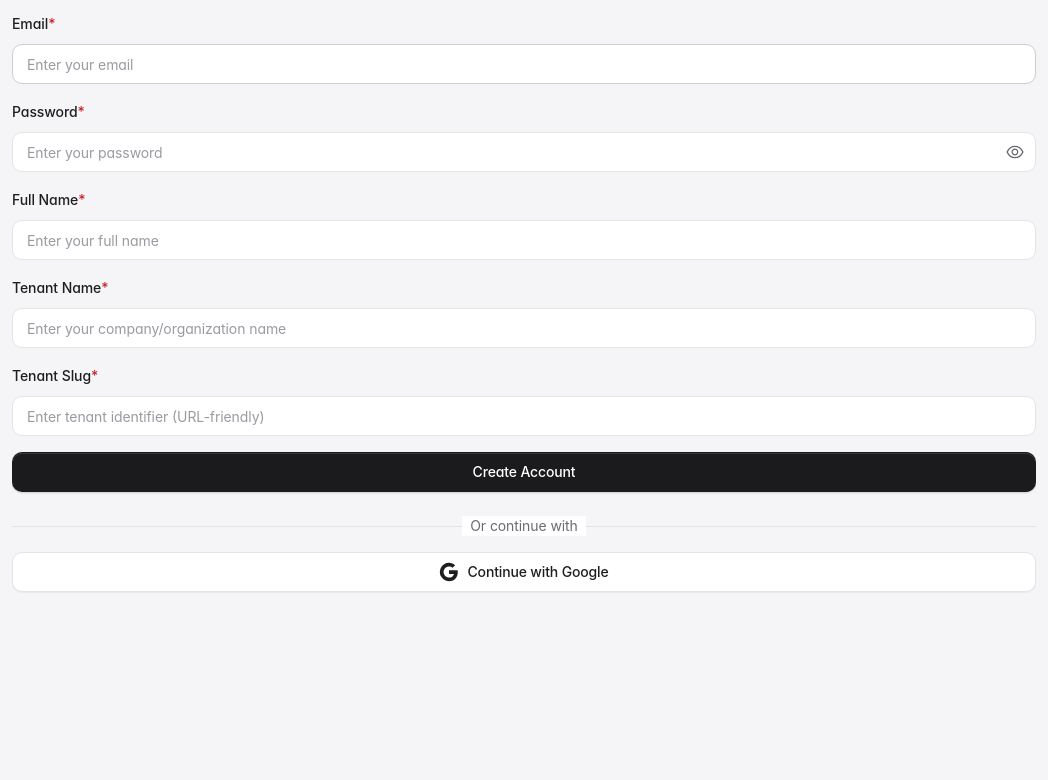
Test: tenant authentication forms › keeps registration slug generation and all account fields reachable
Type "North Star Labs" into the field labelled "Tenant Name*" at x=524, y=328, box [12,308,1036,348]
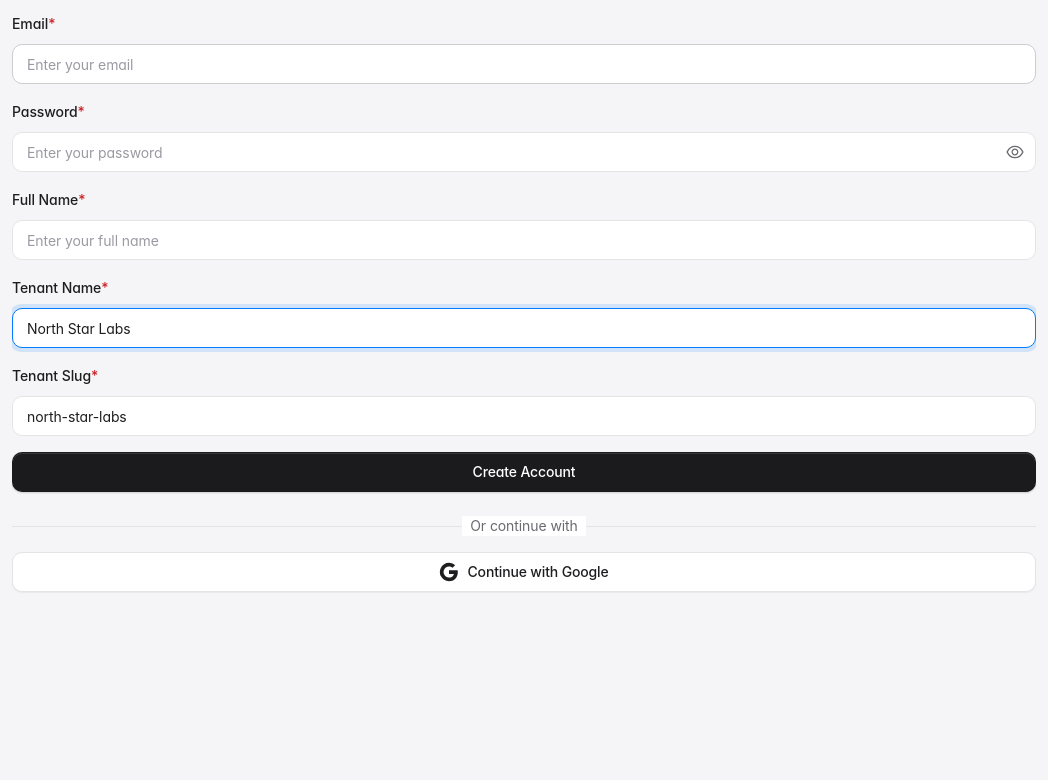
Now the field labelled "Tenant Slug*" holds "north-star-labs", box [12,396,1036,436]
